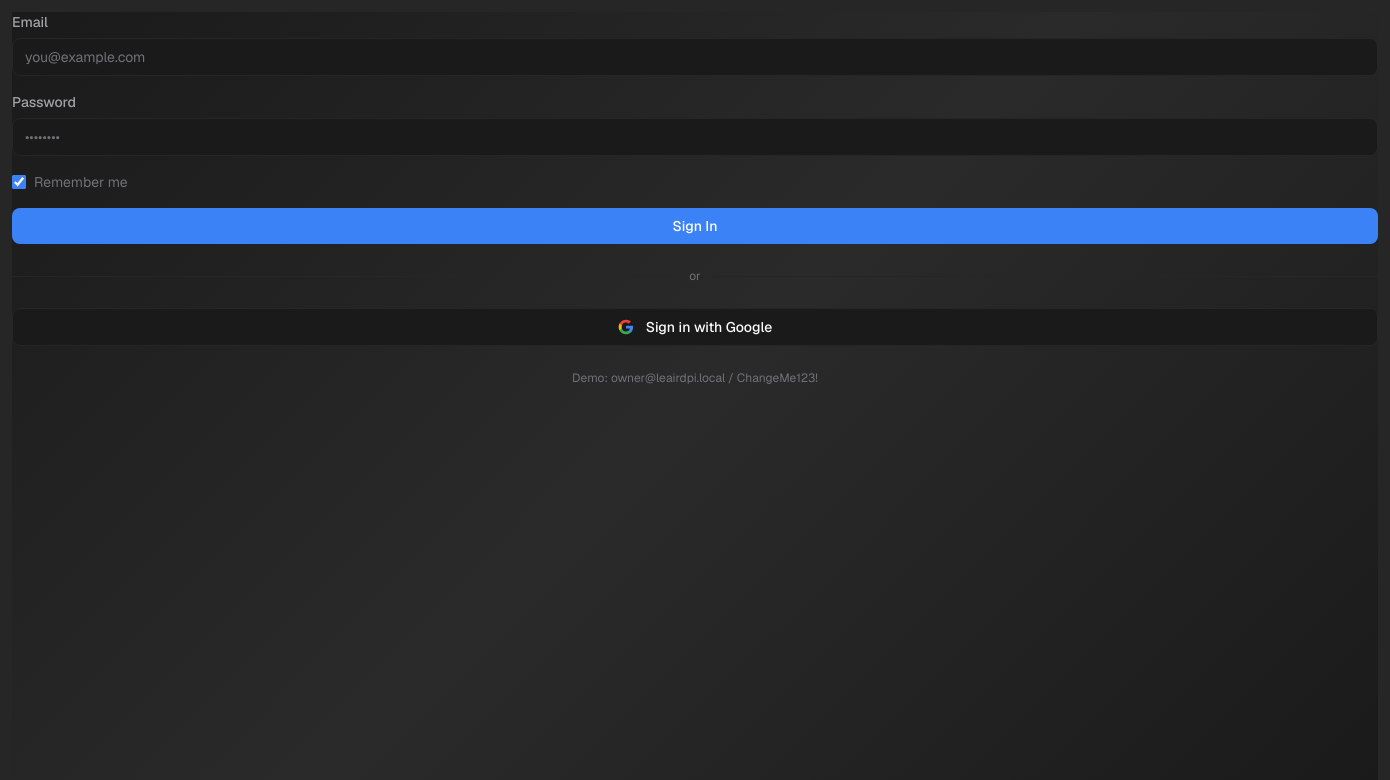
Test: LoginForm › shows network error on fetch failure
Type "test@test.com" into the field labelled "Email" at (695,57), box x1=12 y1=38 x2=1378 y2=76
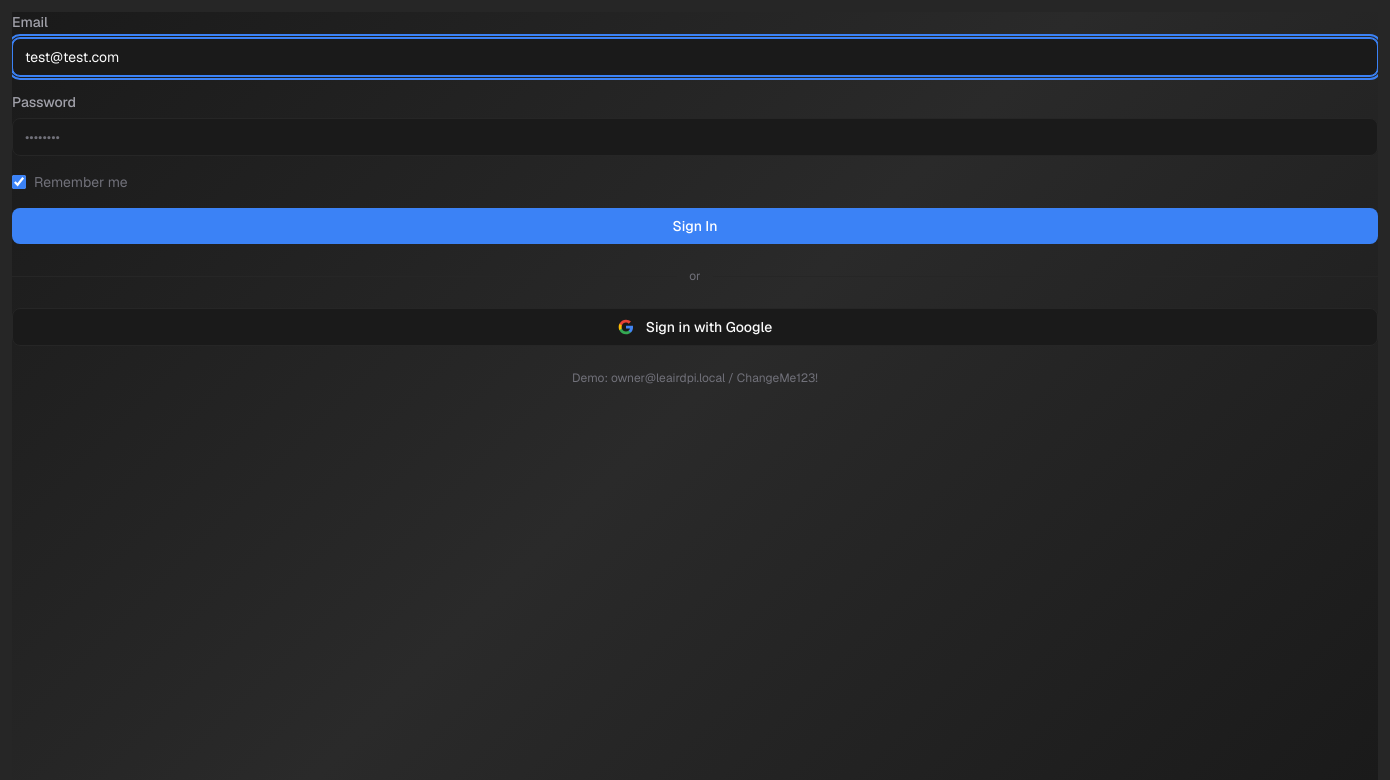
Type "password" into the password field labelled "Password" at (695,137), box x1=12 y1=118 x2=1378 y2=156
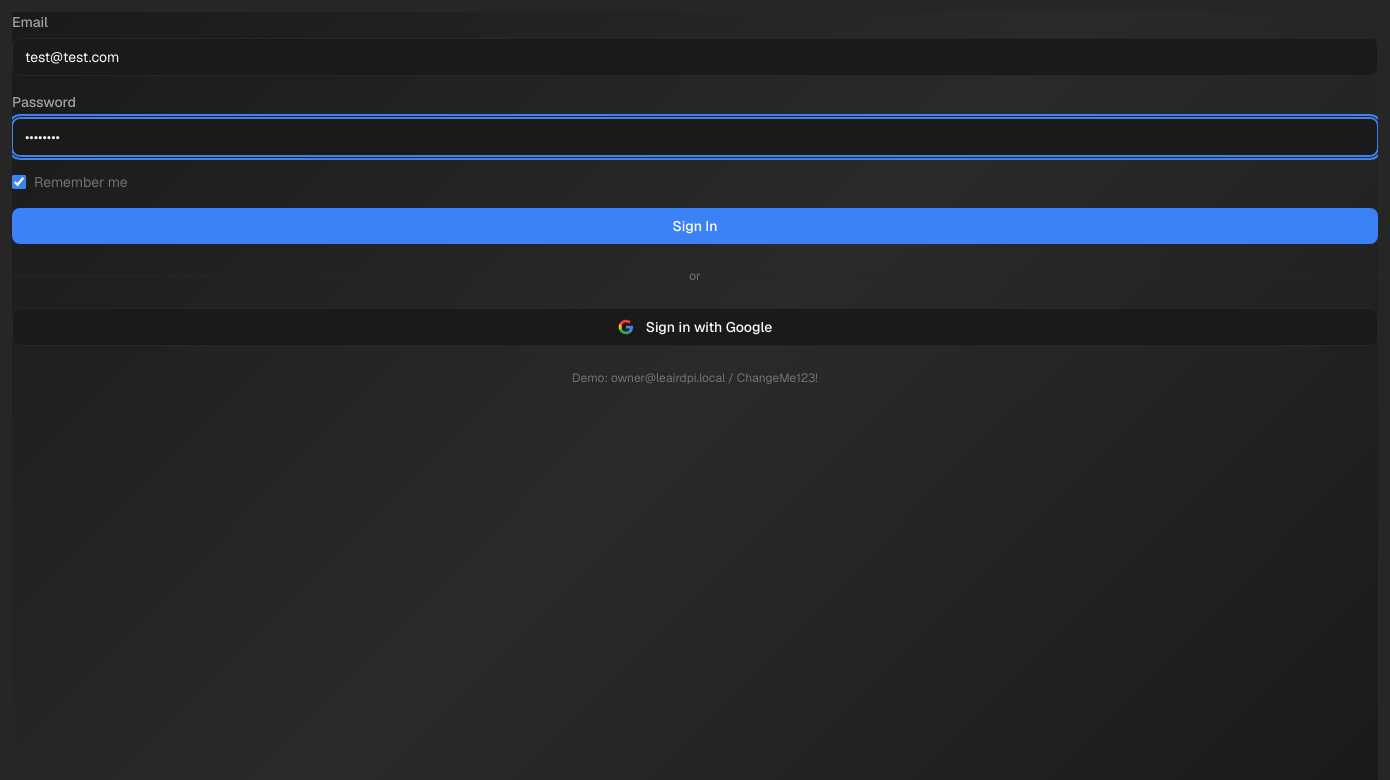
Click the button "Sign In" at (695,226), box x1=12 y1=208 x2=1378 y2=244
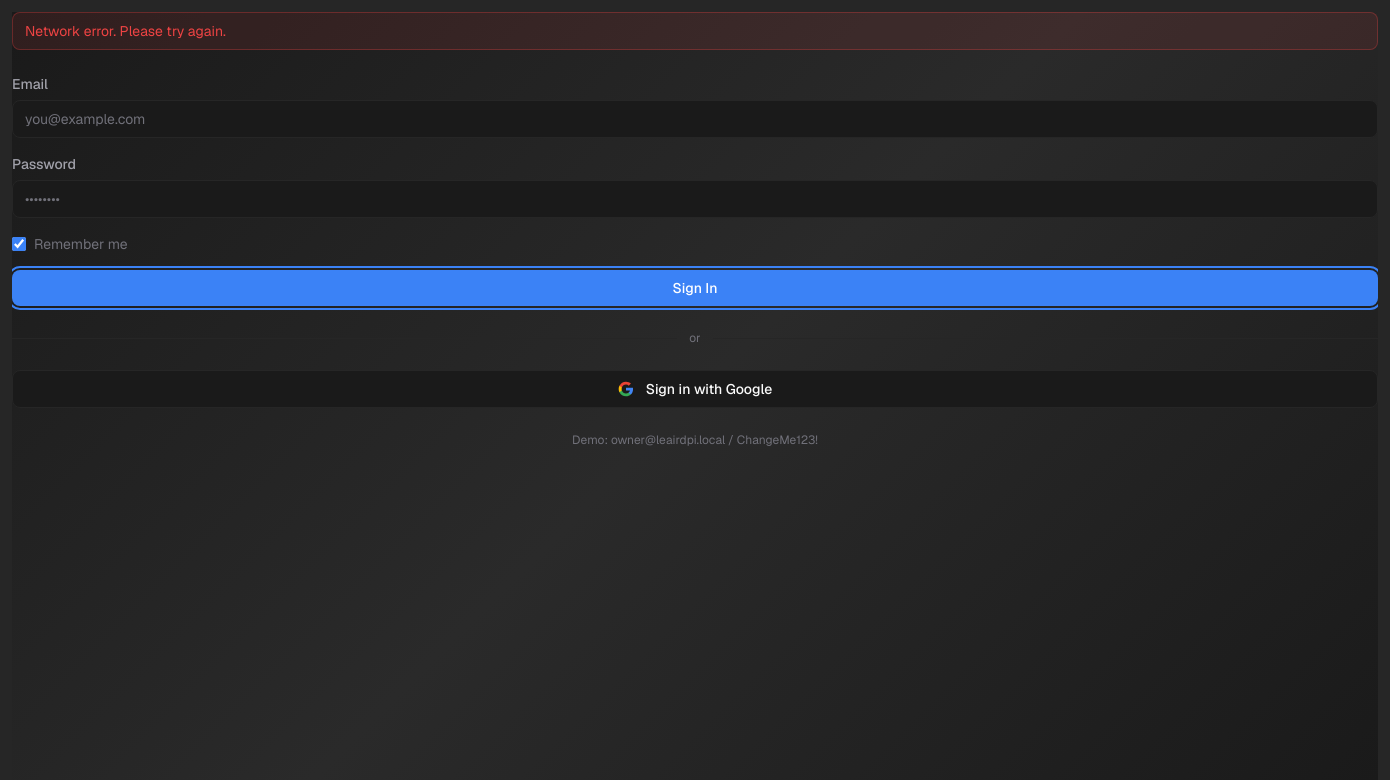
expect the text "Network error. Please try again." is shown: met, box x1=12 y1=12 x2=1378 y2=50
